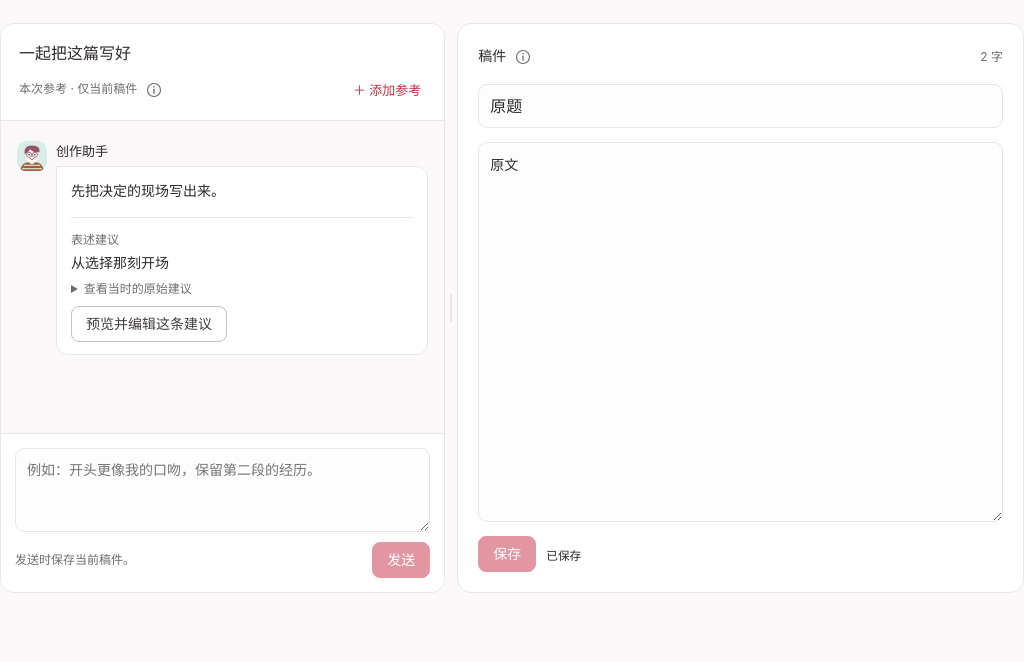
Test: refuses to overwrite edits made after candidate preview opened
Click the button "预览并编辑这条建议".
click(149, 324)  # box [71, 306, 227, 342]
(page scrolled)
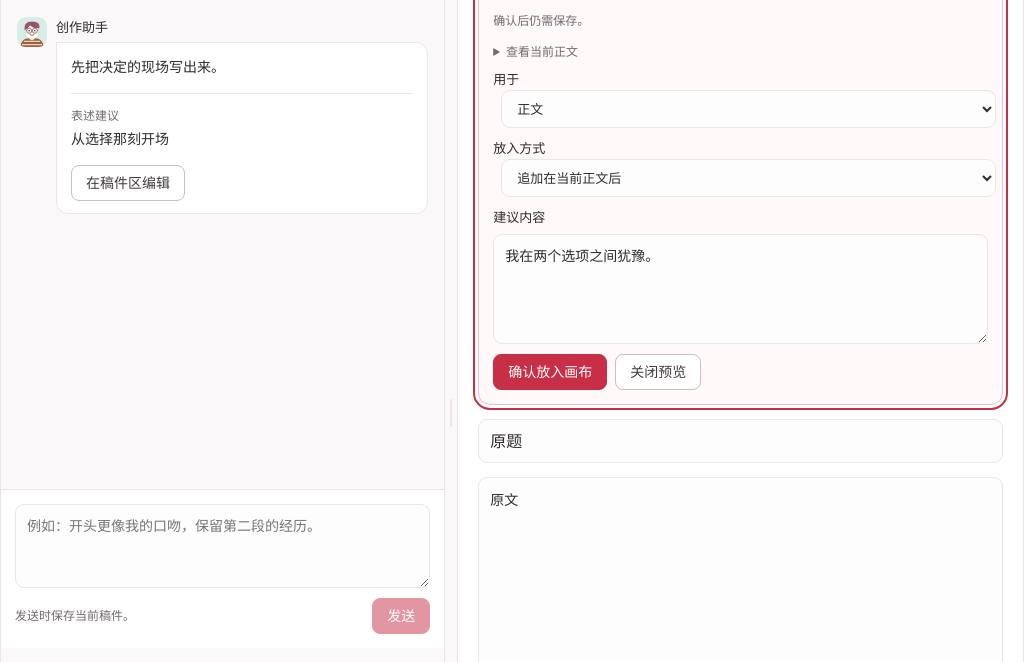
Select "替换当前正文" in the dropdown named "建议放入方式" at coordinates (749, 178), box [501, 159, 996, 197]
(page scrolled)
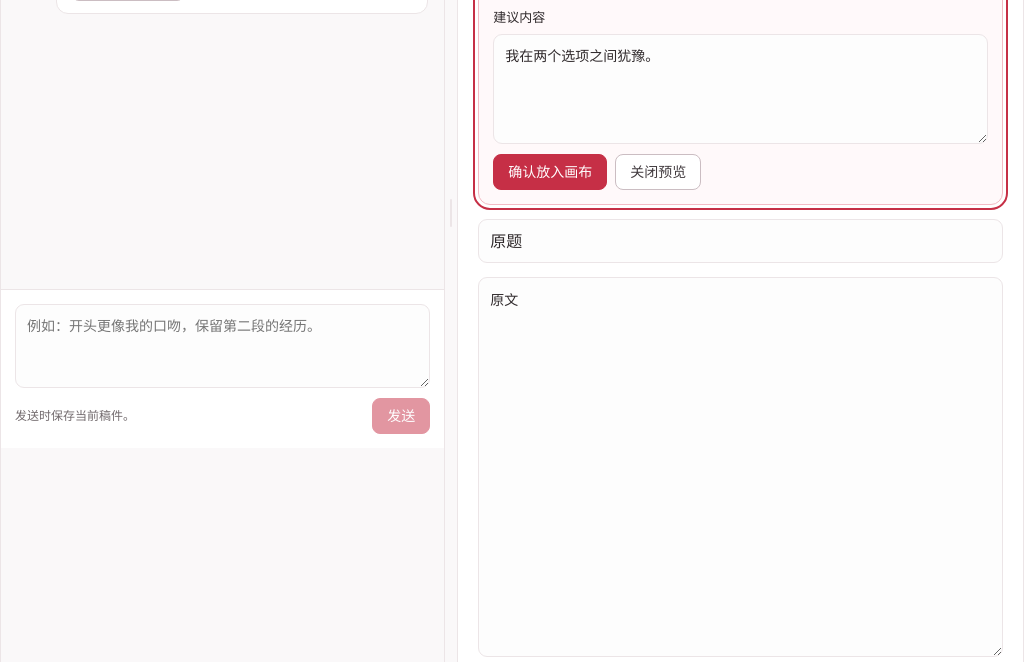
Replace the text in the text box named "创作正文" with "后来写的句子" at coordinates (741, 467), box [478, 277, 1003, 657]
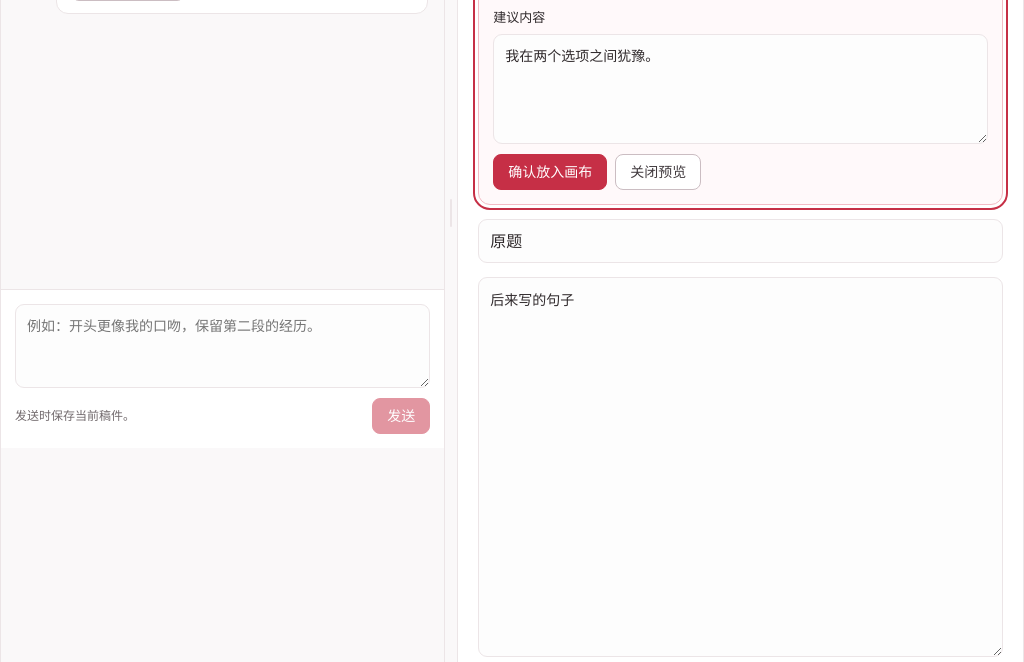
Click the button "确认放入画布".
click(550, 172)  # box [493, 154, 607, 190]
(page scrolled)
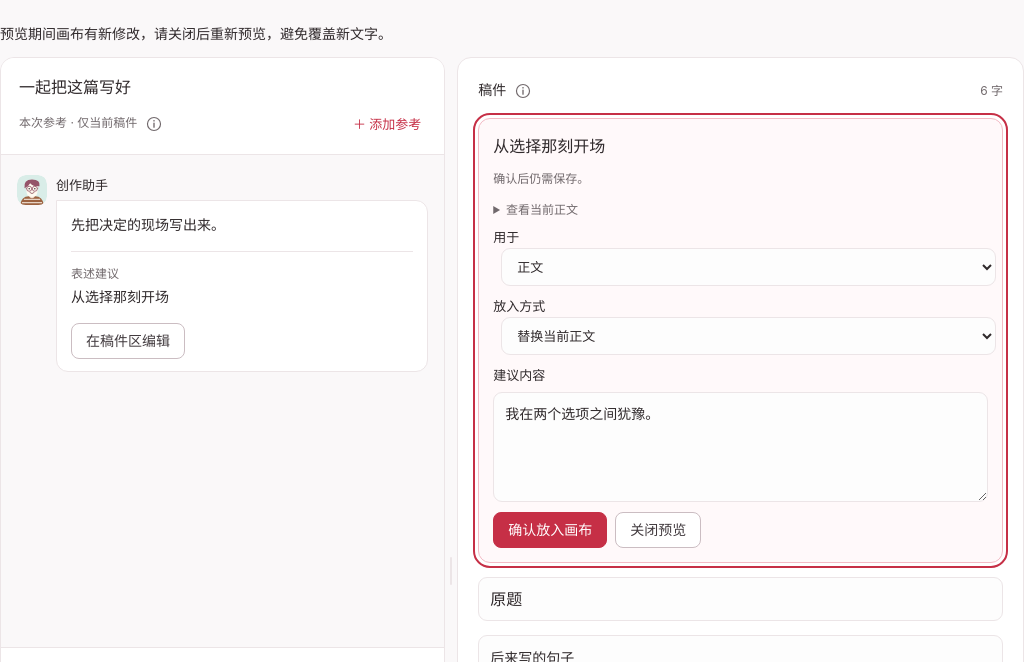
Now the message shows "预览期间画布有新修改", box [0, 25, 392, 42]
